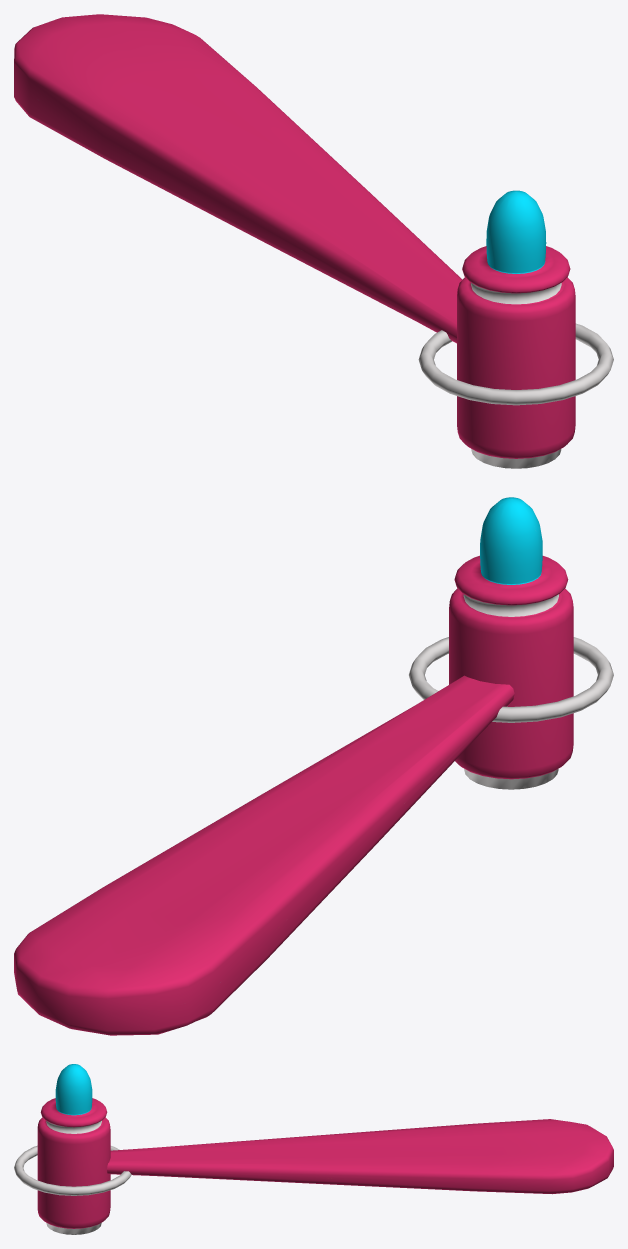
The model's file is fan.fbx.
3 views of the same model, one above another, from view 1: azimuth 30°, elevation 25°; view 2: azimuth 150°, elevation 25°; view 3: azimuth 270°, elevation 25° (orthographic). The views are drawn at different scales.
Visible parts, largest first — view 1: Fan_Blade_lp, Fan_Body_lp; view 2: Fan_Blade_lp, Fan_Body_lp; view 3: Fan_Blade_lp, Fan_Body_lp.
Boxes of the visible parts, x1,y1,x2,y2 form: Fan_Blade_lp: (14,14,462,343); Fan_Body_lp: (418,190,613,468); Fan_Blade_lp: (14,675,514,1035); Fan_Body_lp: (409,497,613,789); Fan_Blade_lp: (107,1119,613,1194); Fan_Body_lp: (14,1064,131,1234).
Bounding box in the file's own units: 0.2396 × 0.3162 × 1.09.
1 material, 1 textured.
